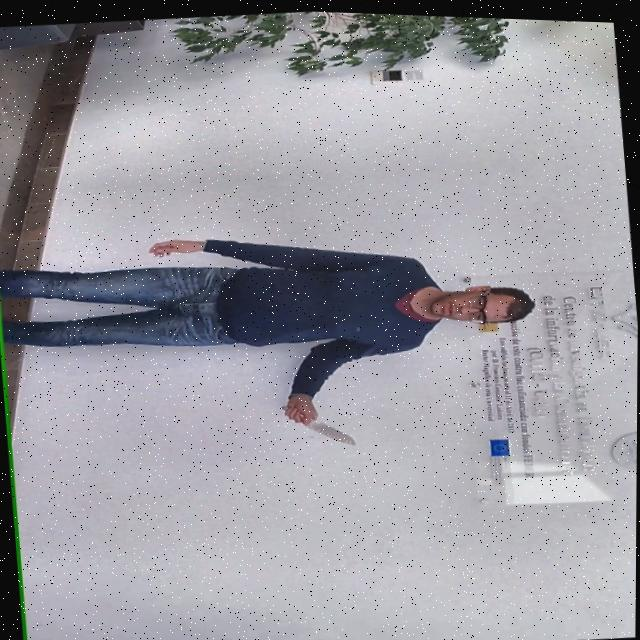knife: (306, 413, 360, 449)
